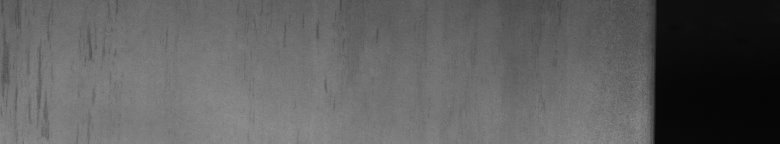ka: (6, 4, 116, 121)
